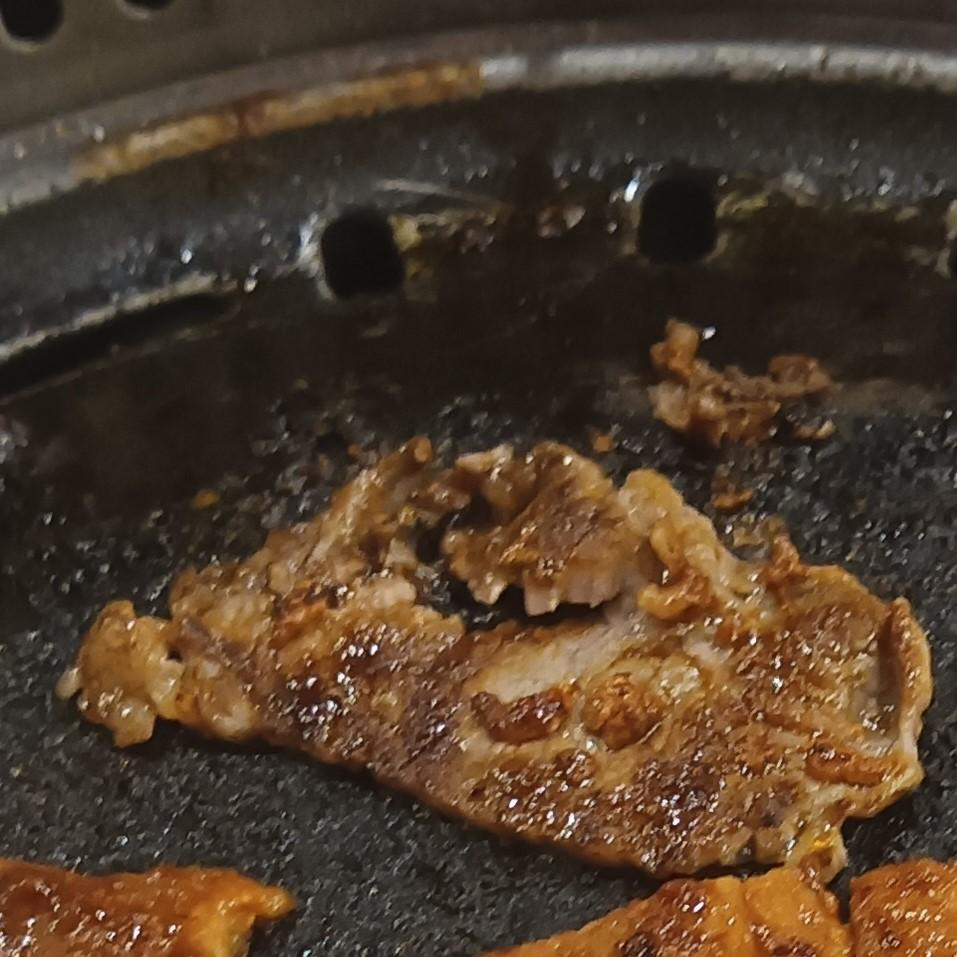Overcooked: (60, 440, 934, 886), (646, 320, 842, 453)
Well-Cooked: (497, 869, 850, 956), (0, 862, 296, 956)
